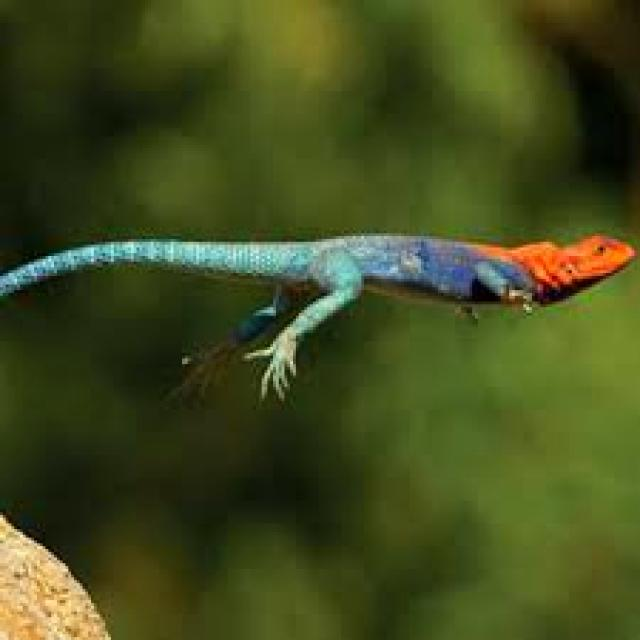lizard: (0, 233, 634, 395)
